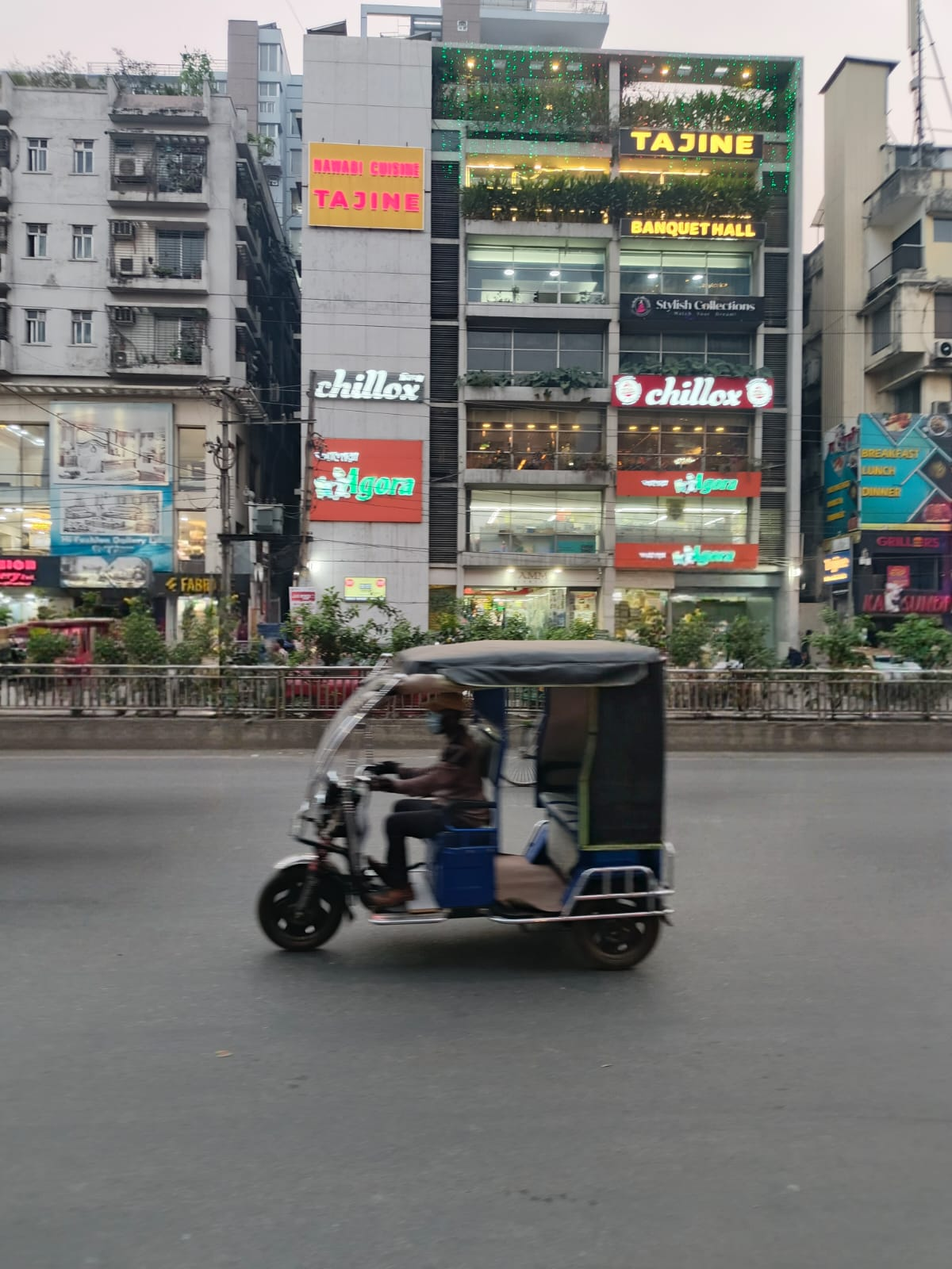auto-ricksaw: (234, 624, 677, 991)
